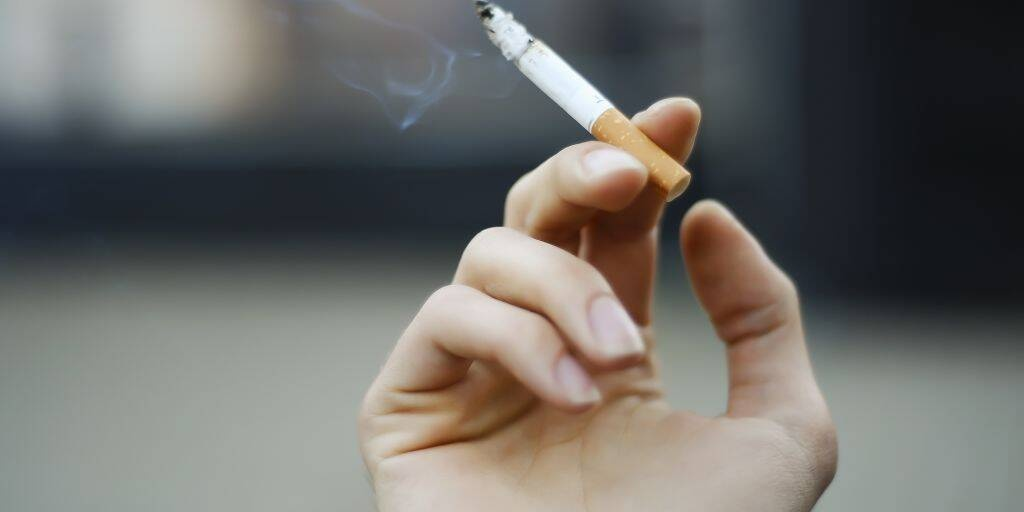sigaretta: (484, 11, 692, 193)
